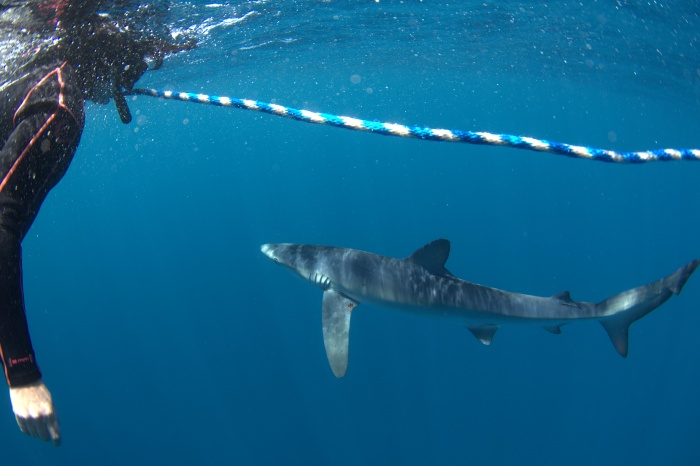Azul: (227, 213, 700, 386)
